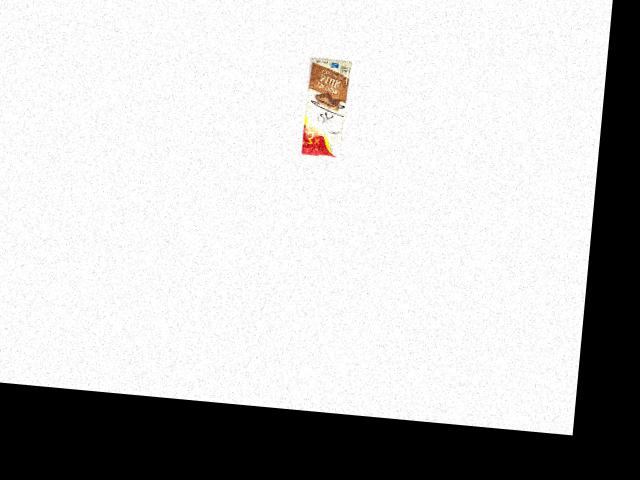chocolate: (297, 58, 353, 160)
